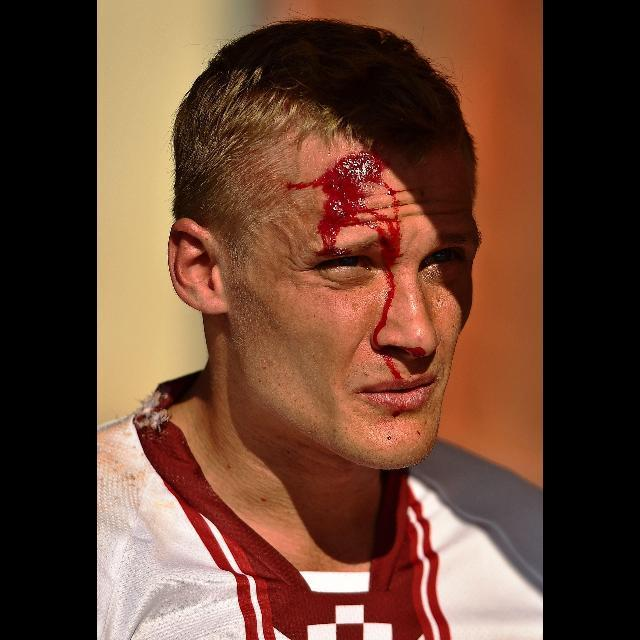blood: (288, 150, 388, 256), (366, 180, 406, 350), (378, 349, 404, 381), (397, 346, 427, 358)
